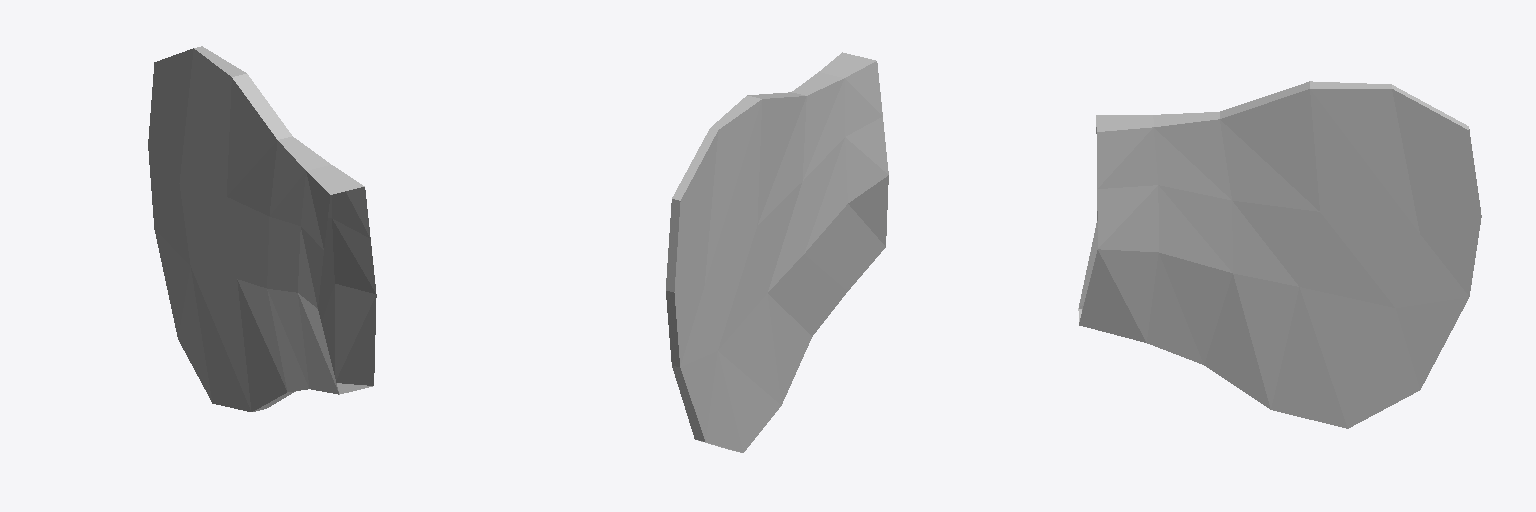
File: tileFish.obj
The picture shows the model from 3 angles: view 1: azimuth 30°, elevation 25°; view 2: azimuth 150°, elevation 25°; view 3: azimuth 270°, elevation 25°; orthographic projection.
Visible parts, largest first — view 1: polySurface2 TropicalFish13:TropicalFish12; view 2: polySurface2 TropicalFish13:TropicalFish12; view 3: polySurface2 TropicalFish13:TropicalFish12.
Boxes of the visible parts, box(x1,y1,x2,y2) form: polySurface2 TropicalFish13:TropicalFish12: box(148, 46, 376, 411); polySurface2 TropicalFish13:TropicalFish12: box(666, 52, 888, 452); polySurface2 TropicalFish13:TropicalFish12: box(1078, 81, 1481, 428).
Bounding box in the file's own units: 0.3627 × 2 × 2.15.